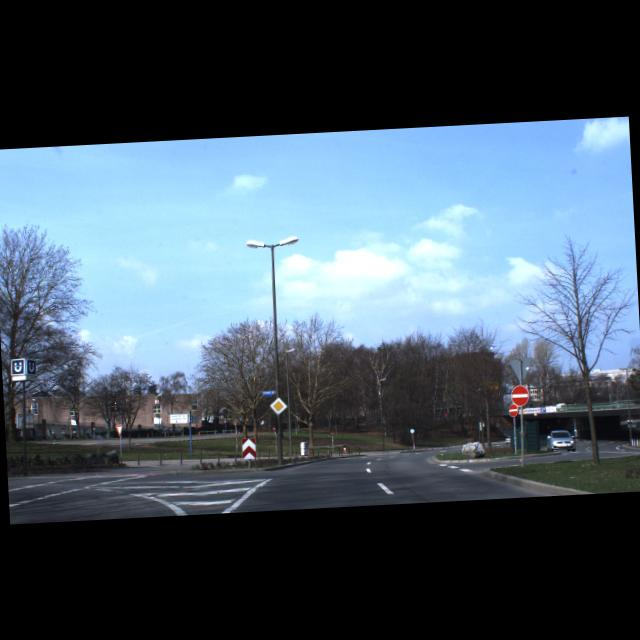other: (512, 384, 530, 406), (270, 396, 289, 416), (510, 403, 520, 417), (115, 426, 124, 436)
